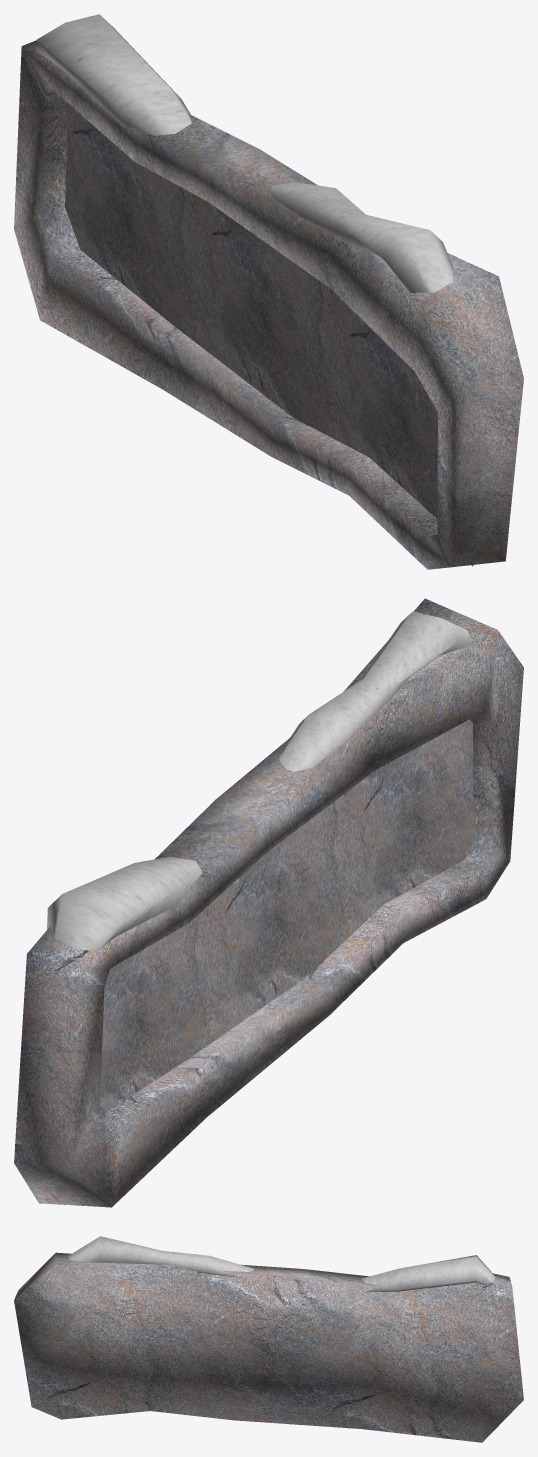
Rendered from adScreen_LOD50.glb.
3 views of the same model, one above another, from view 1: azimuth 30°, elevation 25°; view 2: azimuth 150°, elevation 25°; view 3: azimuth 270°, elevation 25° (orthographic). The views are drawn at different scales.
Parts seen in each view (by area): view 1: rock_mountain.jpg__, snowroad.jpg__; view 2: rock_mountain.jpg__, snowroad.jpg__; view 3: rock_mountain.jpg__, snowroad.jpg__.
Boxes of the visible parts, box(x1,y1,x2,y2) form: rock_mountain.jpg__: box(14, 40, 523, 569); snowroad.jpg__: box(36, 14, 453, 292); rock_mountain.jpg__: box(14, 598, 523, 1207); snowroad.jpg__: box(47, 611, 472, 952); rock_mountain.jpg__: box(14, 1252, 523, 1442); snowroad.jpg__: box(68, 1236, 495, 1292).
Bounding box in the file's own units: 1.9 × 7.72 × 18.67.
Materials: 2 (2 with a texture image).
